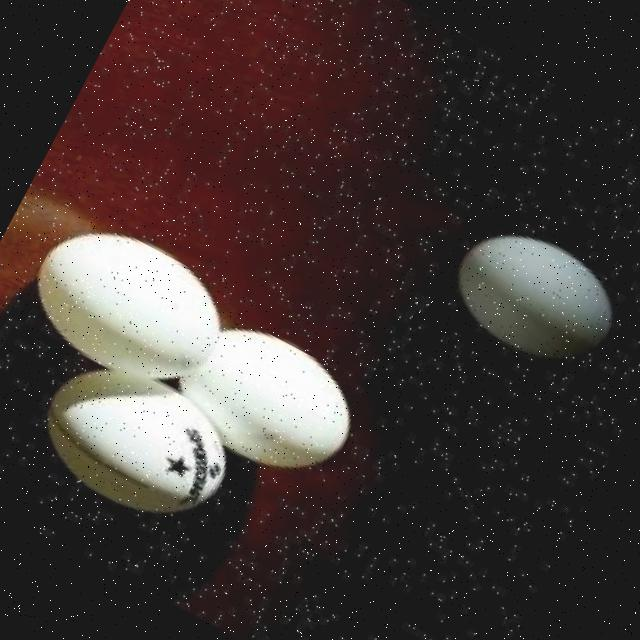ping-pong-ball: (18, 336, 255, 544), (11, 202, 244, 408), (153, 304, 368, 497), (438, 211, 636, 385)
